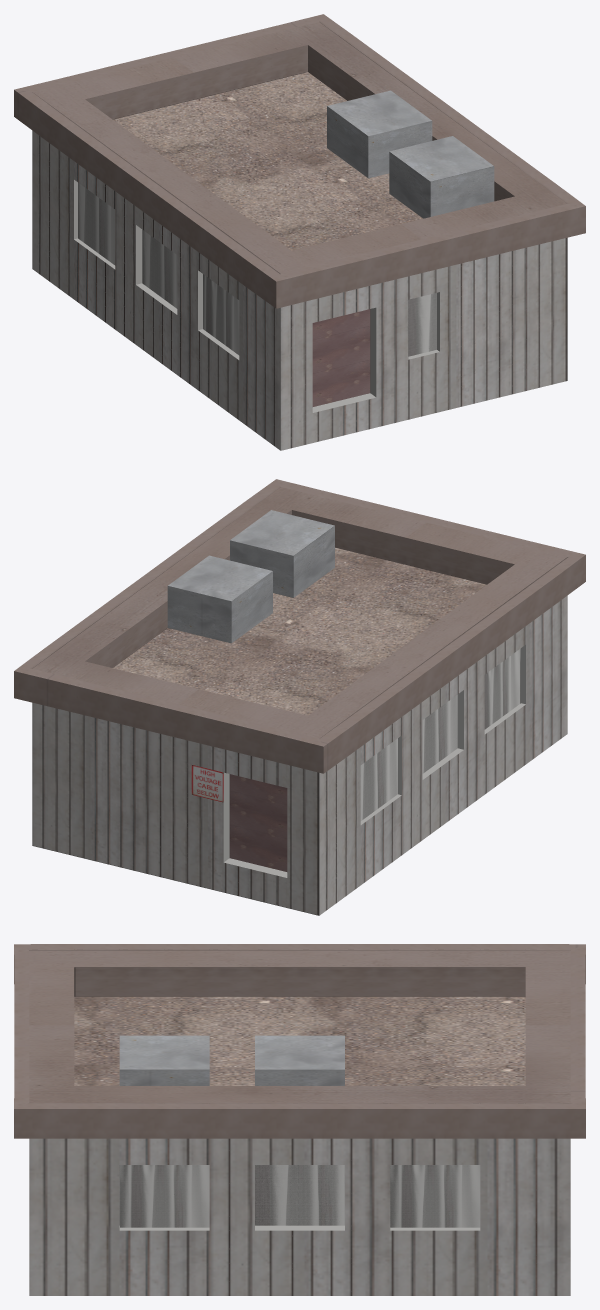
The model's file is arctic_crew_quaters.glb.
The picture shows the model from 3 angles, top to bottom: view 1: azimuth 30°, elevation 25°; view 2: azimuth 150°, elevation 25°; view 3: azimuth 270°, elevation 25°; orthographic projection. The views are drawn at different scales.
Visible parts, largest first — view 1: Object_2, Object_3; view 2: Object_2, Object_3; view 3: Object_2, Object_3.
Part boxes in pixels (x1=…): Object_2: x1=14, y1=14, x2=585, y2=450; Object_3: x1=78, y1=182, x2=436, y2=356; Object_2: x1=14, y1=479, x2=585, y2=915; Object_3: x1=360, y1=648, x2=520, y2=820; Object_2: x1=14, y1=944, x2=585, y2=1295; Object_3: x1=119, y1=1165, x2=480, y2=1227.
Bounding box in the file's own units: 650 × 384 × 951.
Materials: 2 (2 with a texture image).
